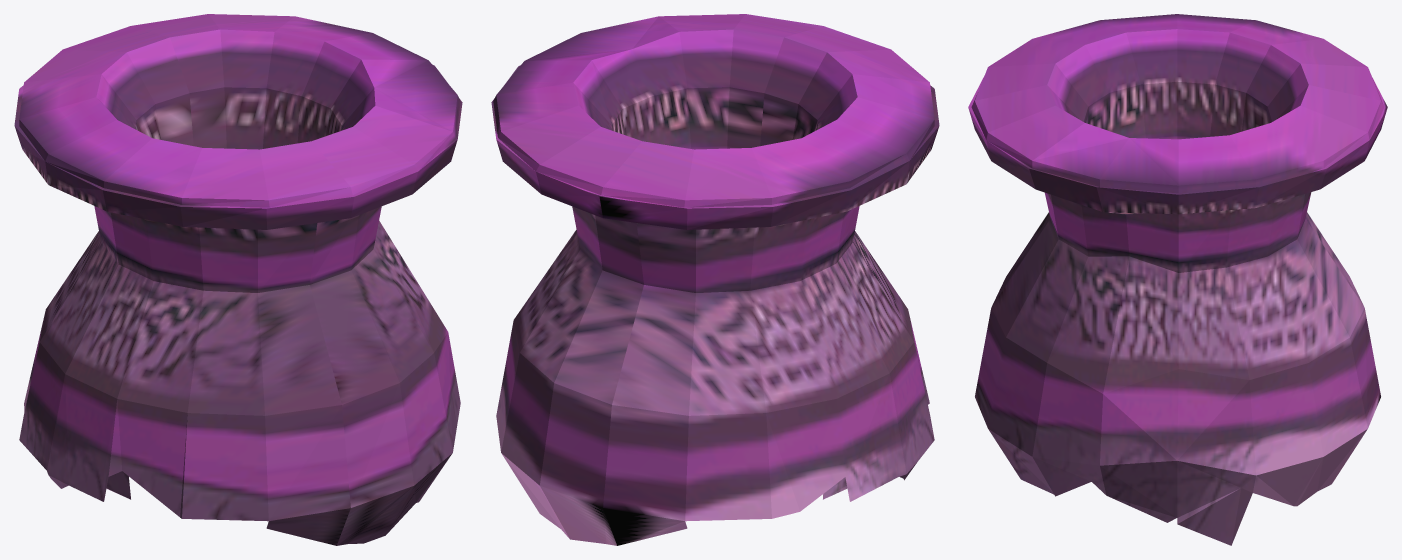
The model's file is BVase5.glb.
3 views of the same model, side by side, from view 1: azimuth 30°, elevation 25°; view 2: azimuth 150°, elevation 25°; view 3: azimuth 270°, elevation 25° (orthographic). The views are drawn at different scales.
Parts seen in each view (by area): view 1: BVase5; view 2: BVase5; view 3: BVase5.
Part boxes in pixels (box(x1,y1,x2,y2)): BVase5: box(14, 14, 462, 545); BVase5: box(491, 14, 939, 545); BVase5: box(968, 14, 1387, 545).
Bounding box in the file's own units: 77.3 × 83.24 × 77.98.
Materials: 1 (1 with a texture image).
